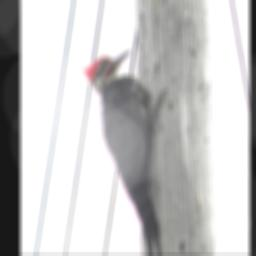Woodpecker: (81, 46, 168, 254)
